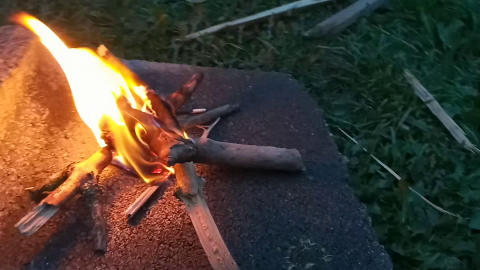fire: (7, 6, 209, 183)
